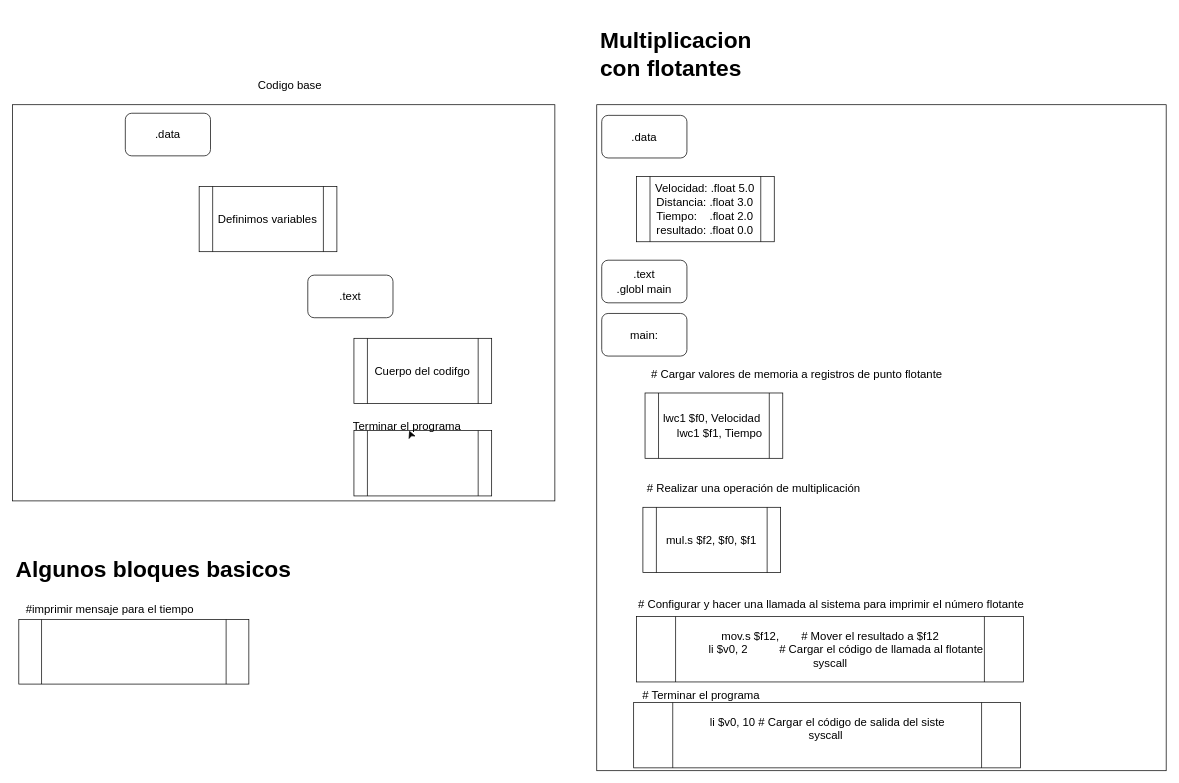
This 1179x783 diagram has some shape labels left out. Here are the shapes that lost their labels. From the top down, the box of each, then its label:
(353, 430, 492, 496): li $v0, 10 syscall
(18, 619, 249, 684): la $a0, mensaje3 li $v0, 4 syscall
